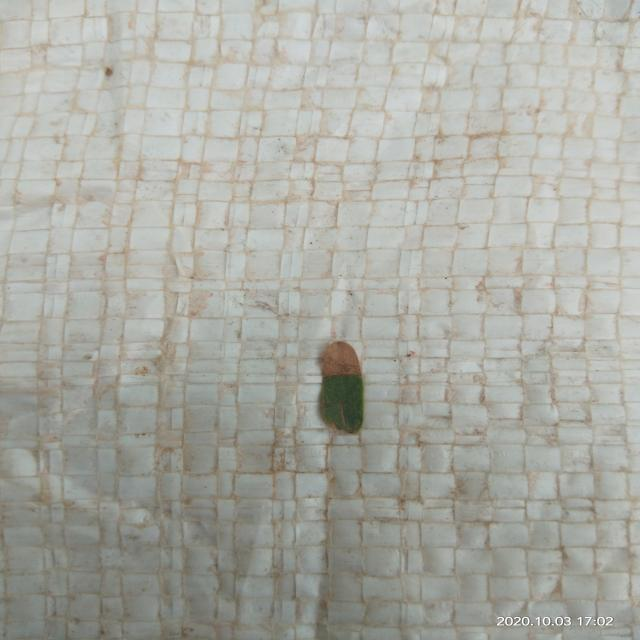defectedtamarind: (322, 341, 362, 378)
tamarind: (322, 341, 363, 434)
